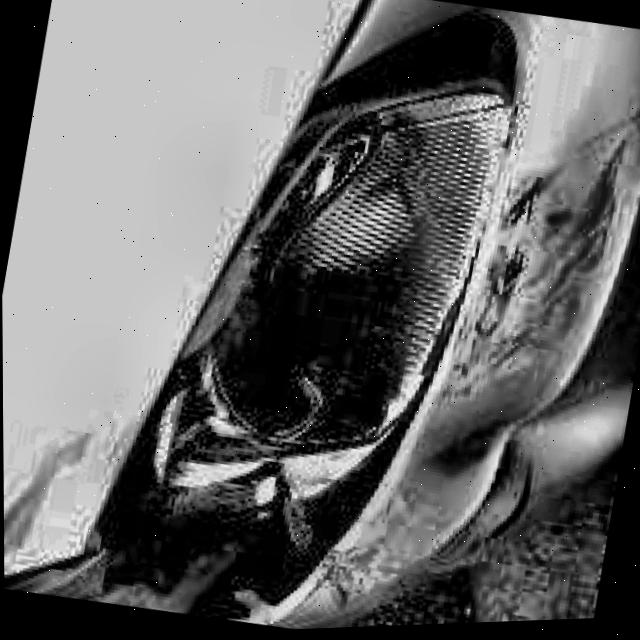head_lamp: (228, 85, 488, 437), (114, 356, 363, 636)
